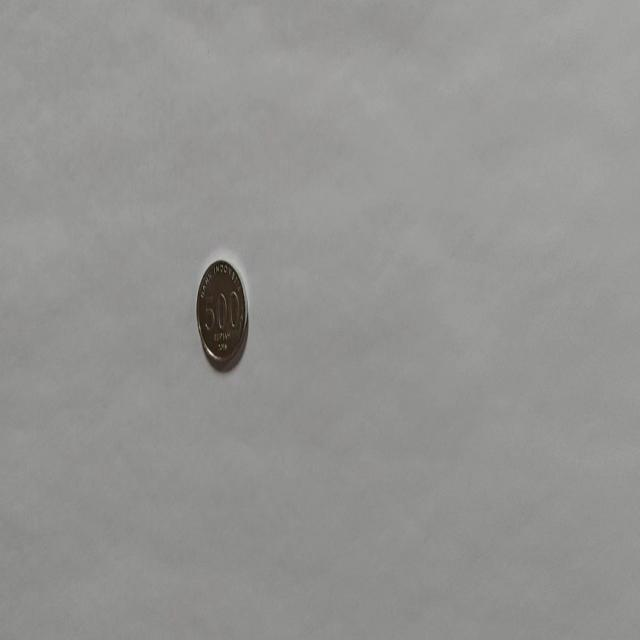lima ratus rupiah: (194, 258, 248, 372)
